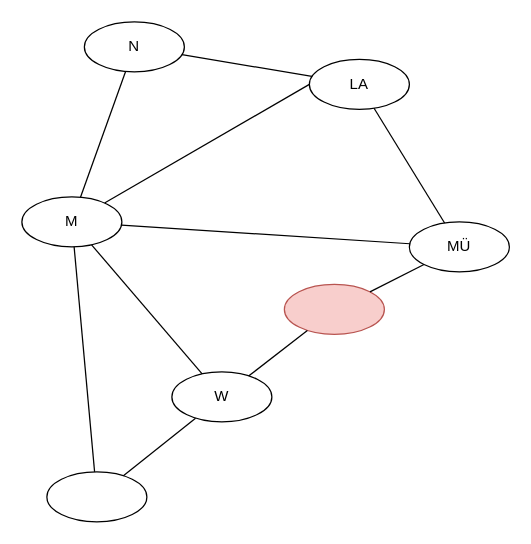
The diagram is 531 pixels wide and 544 high, and some of its shapes have lost their labels. The shapes that lost their labels are listed below. From the top down, each one's centre as x and y in pixels, then its label:
At point (333, 308): "Wkb".
At point (96, 496): "RO".
